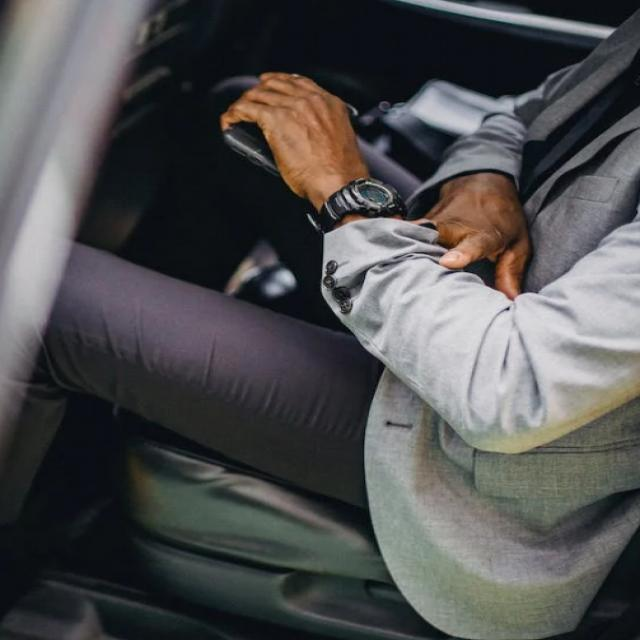Watch: (302, 178, 411, 234)
